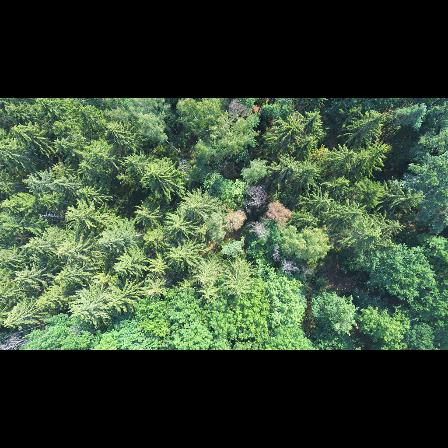Dead: (243, 181, 271, 210), (282, 256, 298, 276)
